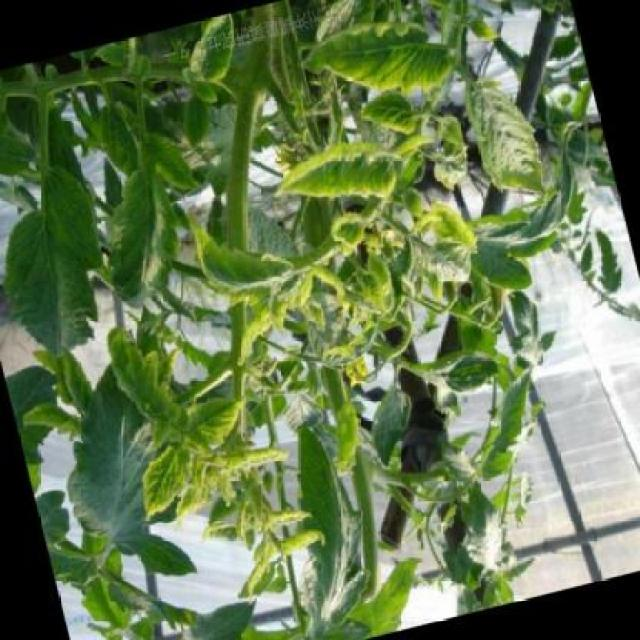Healthy Leaf: (280, 3, 458, 119), (442, 56, 558, 224), (260, 130, 414, 225), (181, 200, 294, 322), (100, 320, 185, 442), (170, 10, 262, 96), (126, 436, 202, 527), (420, 188, 486, 280), (174, 380, 248, 458)
